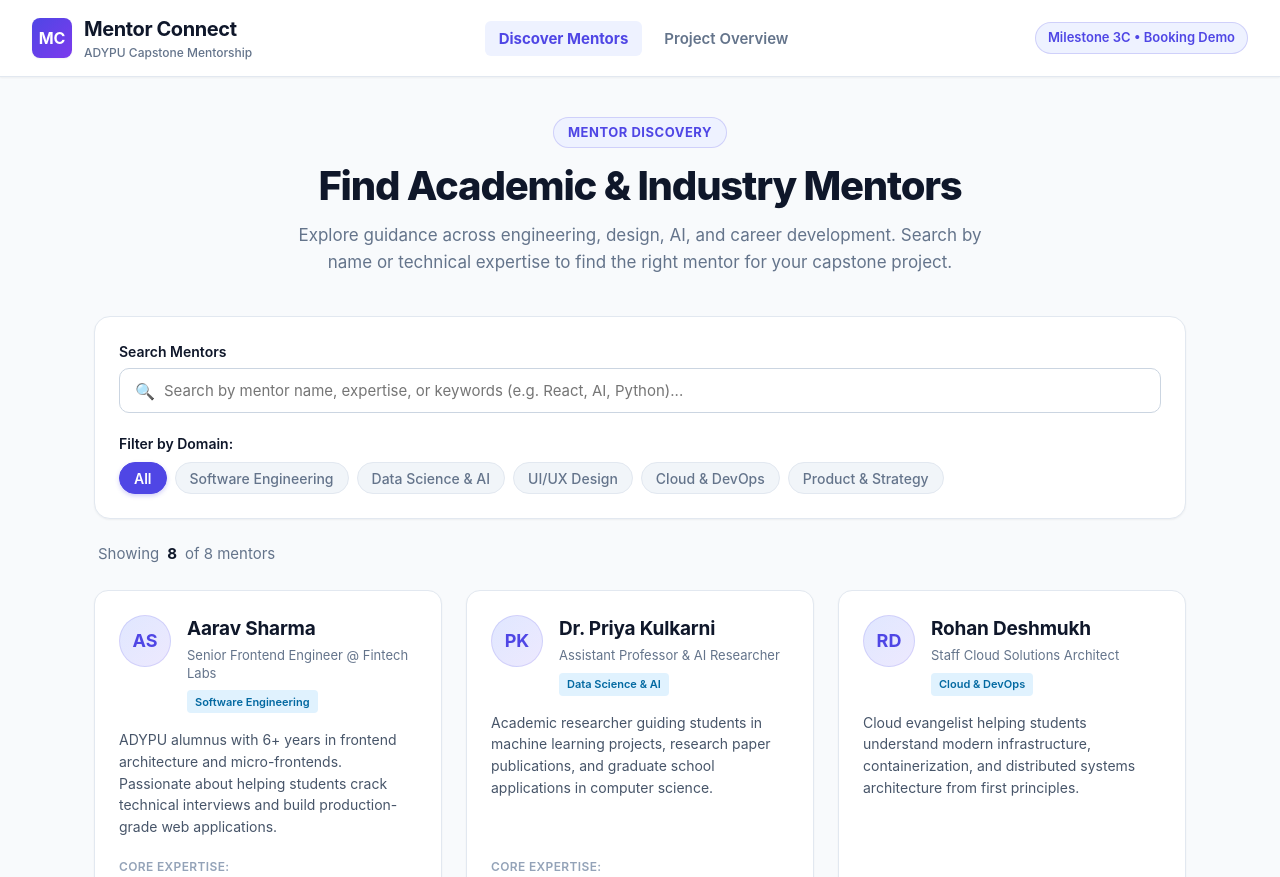
Mentor Discovery › clears the search query and restores all results when clear button is clicked
Replace the text in the search field labelled "Search Mentors" with "Aarav" at [640, 391], box [119,368,1161,414]
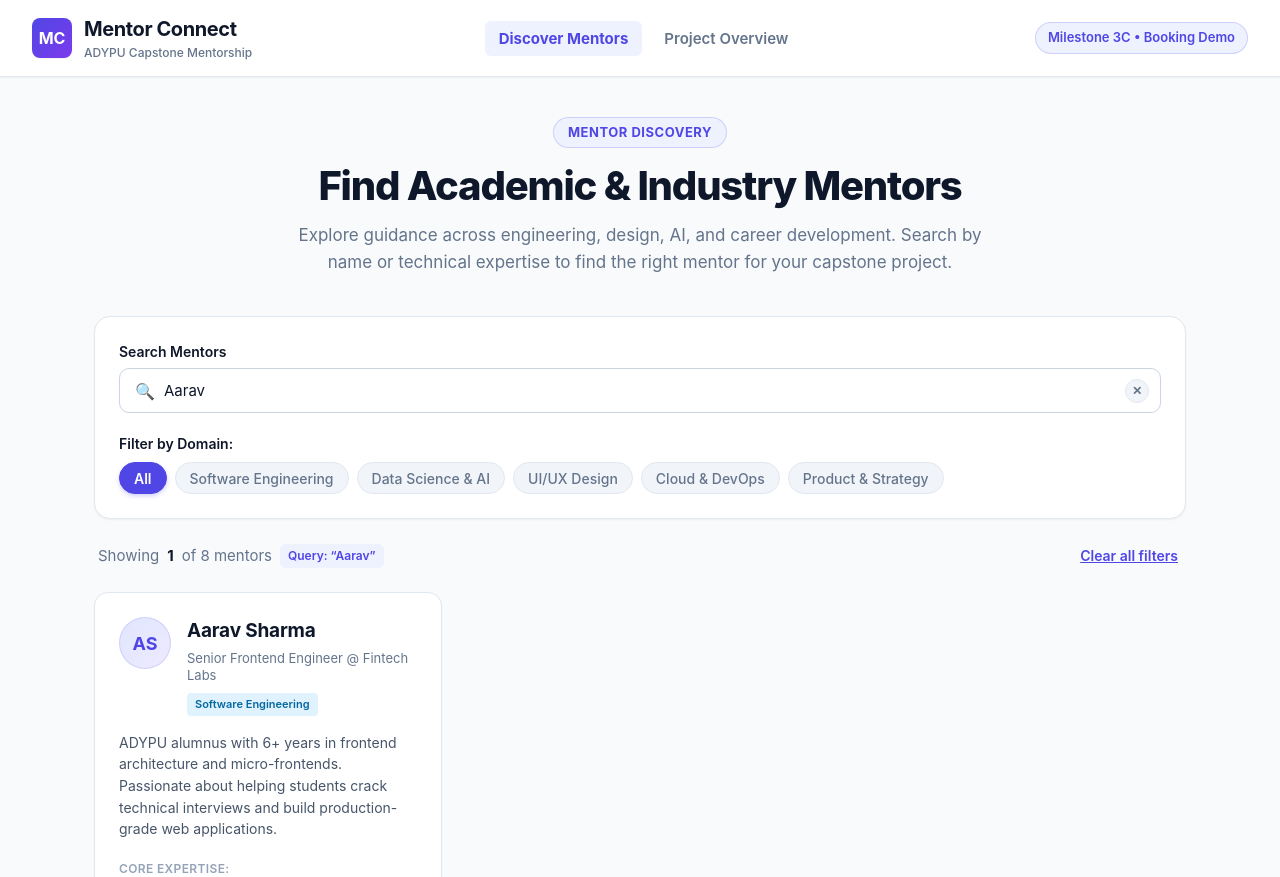
Expected: the element with class "results-count" shows "Showing 1 of 8 mentors", [98,544,384,568]
Click the button named "Clear search query" at [1137, 391], box [1125,379,1149,403]
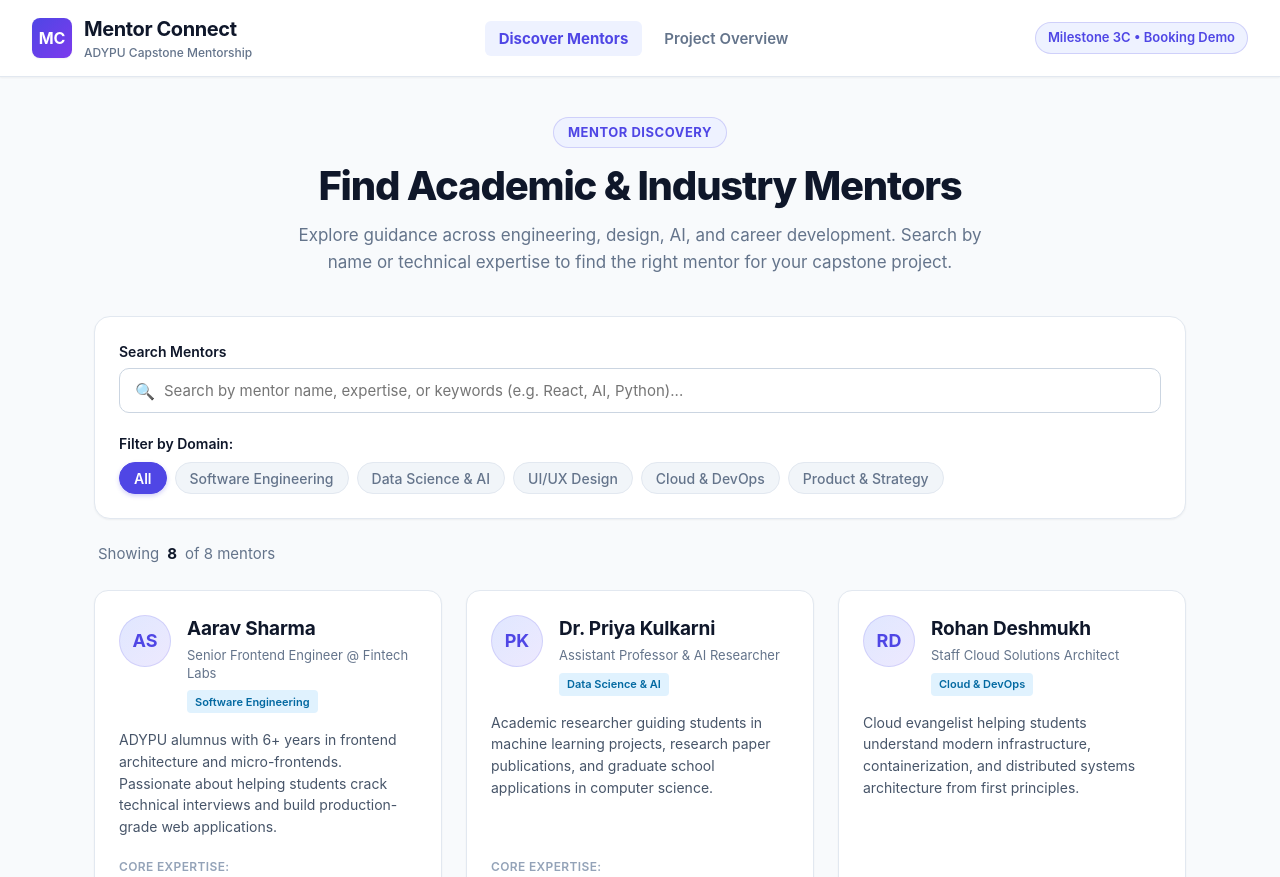
Expected: the search field labelled "Search Mentors" is empty, [119,368,1161,414]
Expected: the element with class "results-count" reads "Showing 8 of 8 mentors", [98,543,275,566]
